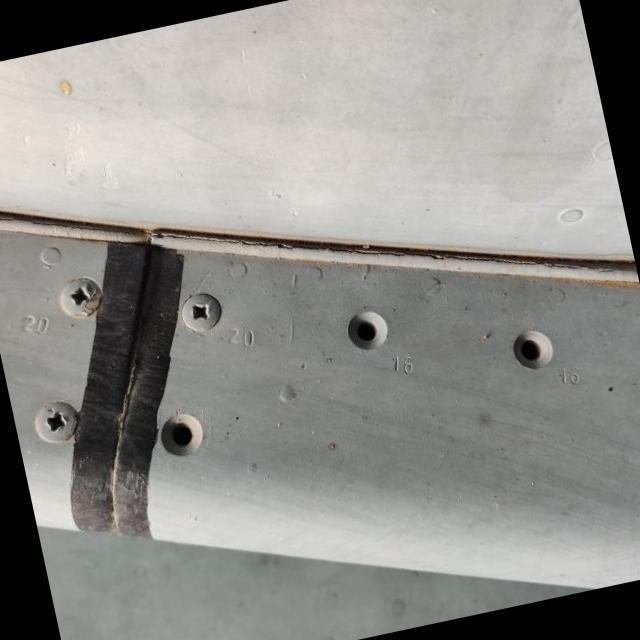Fastener Damage: (120, 374, 240, 498), (476, 291, 588, 403), (315, 276, 424, 385)
